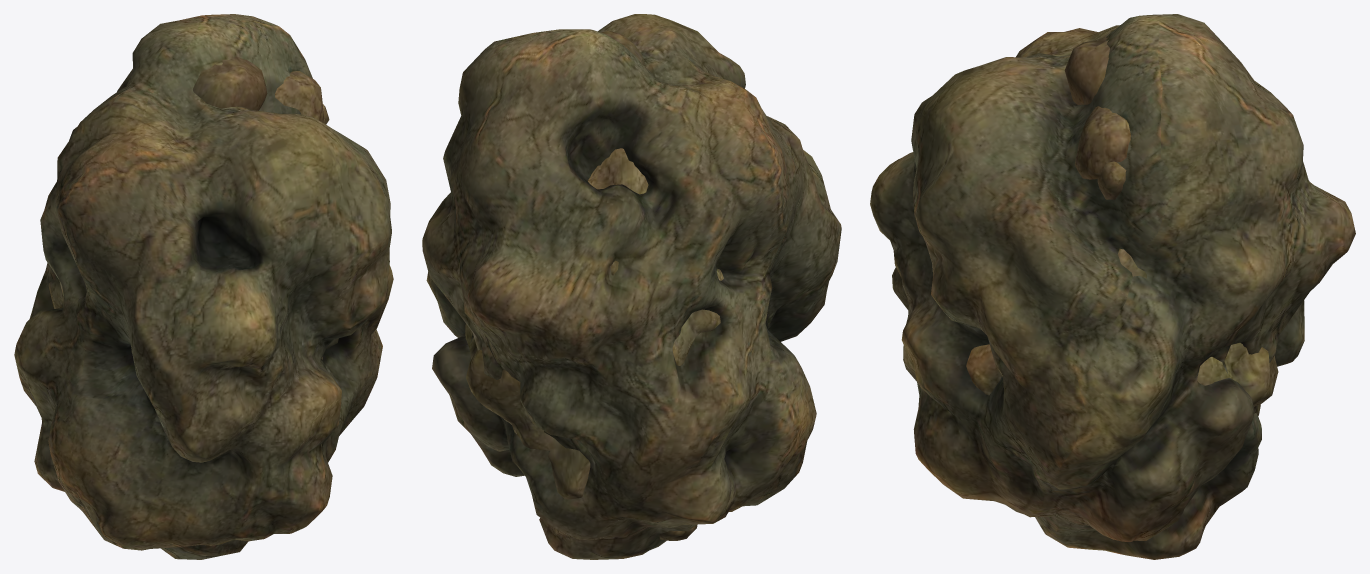
Rendered from Biomass - Mesh 2-D2vRG4ML.glb.
The picture shows the model from 3 angles, left to right: view 1: azimuth 30°, elevation 25°; view 2: azimuth 150°, elevation 25°; view 3: azimuth 270°, elevation 25°; orthographic projection. The views are drawn at different scales.
Visible parts, largest first — view 1: BiomassF_9, BiomassB_3, BiomassB_2; view 2: BiomassF_9, BiomassF_7; view 3: BiomassF_9, BiomassF_7, BiomassB_2, BiomassB_3, BiomassB_1.
Part boxes in pixels (<box>): BiomassF_9: <box>14,14,393,559</box>; BiomassB_3: <box>193,56,267,110</box>; BiomassB_2: <box>275,71,324,122</box>; BiomassF_9: <box>422,14,841,559</box>; BiomassF_7: <box>465,148,723,499</box>; BiomassF_9: <box>870,14,1355,559</box>; BiomassF_7: <box>966,248,1278,424</box>; BiomassB_2: <box>1074,106,1130,179</box>; BiomassB_3: <box>1064,36,1109,104</box>; BiomassB_1: <box>1097,161,1126,199</box>.
Size of the model in its own units: 1.61 by 2.32 by 1.89.
1 material, 1 textured.
